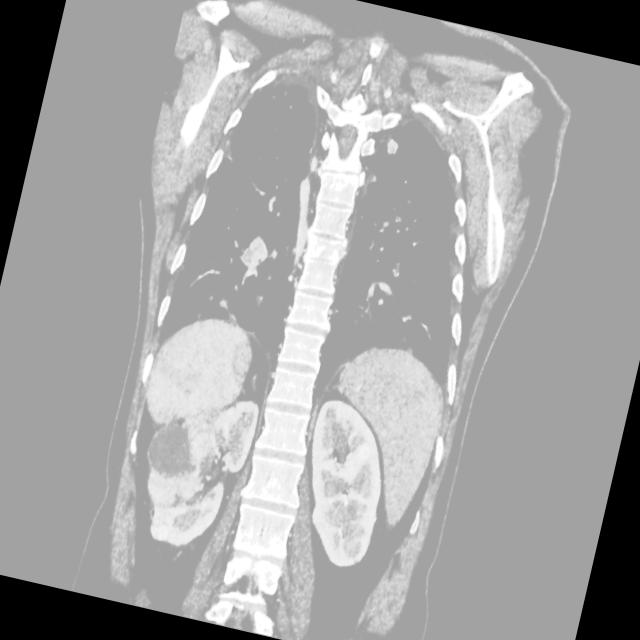TUMOR: (21, 211, 538, 607)
